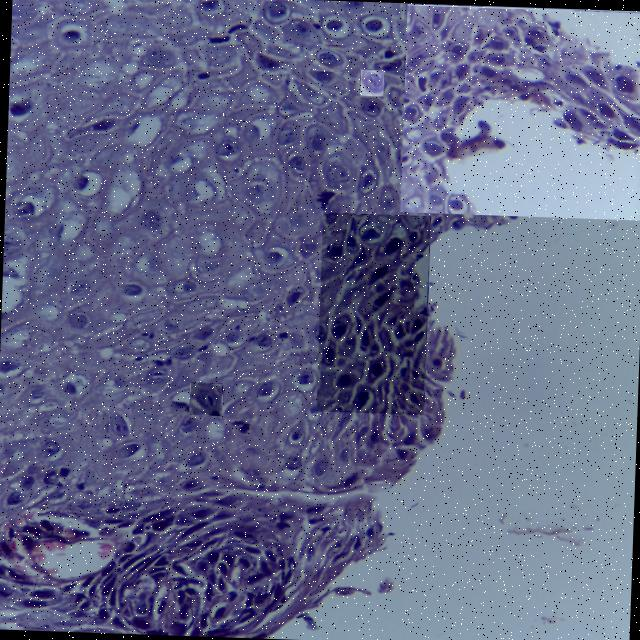Mitotic Figures: (190, 383, 220, 415)
Multiple Nucleol: (311, 43, 345, 71), (107, 408, 130, 438), (360, 69, 382, 96)
Nuclear Hyperchromatism: (402, 8, 640, 214), (319, 214, 429, 413)
